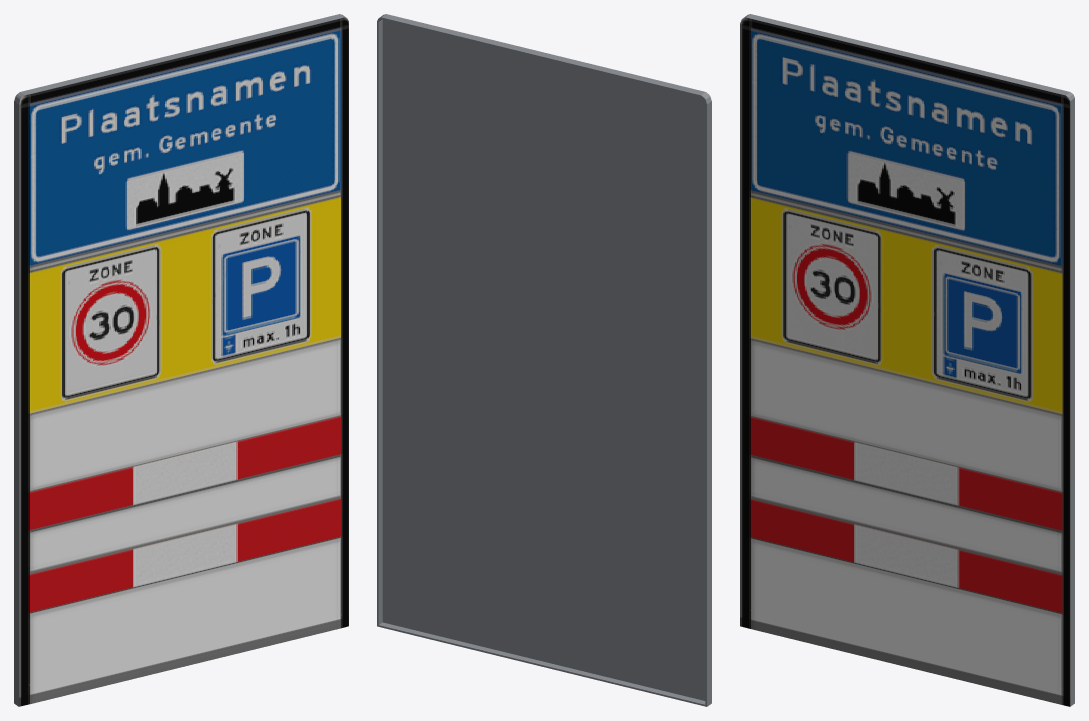
3 renders of one model, left to right at view 1: azimuth 30°, elevation 25°; view 2: azimuth 150°, elevation 25°; view 3: azimuth 330°, elevation 25°, orthographic.
Parts seen in each view (by area): view 1: cat_18611f49b3522590; view 2: cat_18611f49b3522590; view 3: cat_18611f49b3522590.
Boxes of the visible parts, box(x1,y1,x2,y2) form: cat_18611f49b3522590: box(14, 14, 348, 706); cat_18611f49b3522590: box(377, 14, 711, 706); cat_18611f49b3522590: box(740, 14, 1074, 706).
Bounding box in the file's own units: 0.6 × 0.015 × 1.06.
Materials: 2 (1 with a texture image).
